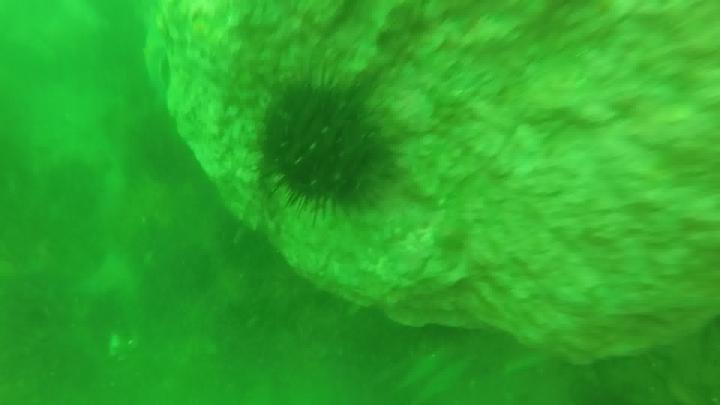echinus: (256, 61, 402, 228)
